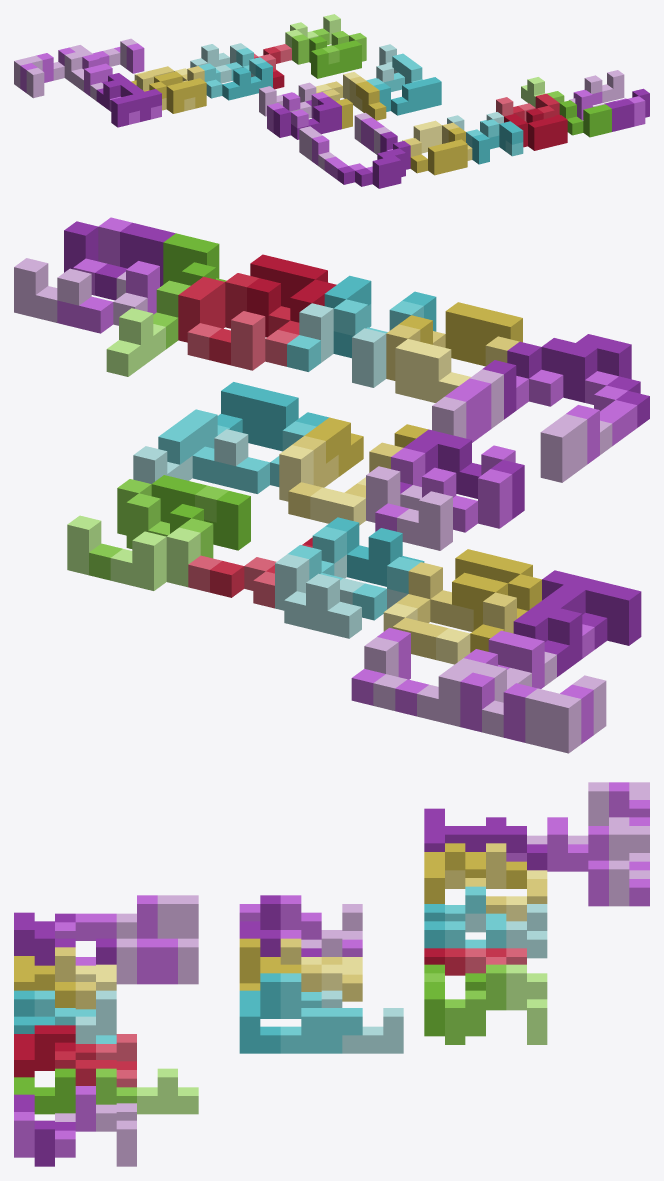
Rendered from Titre.fbx.
3 views of the same model, one above another, from view 1: azimuth 30°, elevation 25°; view 2: azimuth 150°, elevation 25°; view 3: azimuth 270°, elevation 25° (orthographic). The views are drawn at different scales.
Parts seen in each view (by area): view 1: imagetostl_mesh0; view 2: imagetostl_mesh0; view 3: imagetostl_mesh0.
Part boxes in pixels (box(x1,y1,x2,y2)): imagetostl_mesh0: box(14, 14, 649, 188); imagetostl_mesh0: box(14, 217, 649, 753); imagetostl_mesh0: box(14, 782, 649, 1166).
Size of the model in its own units: 6 by 0.3 by 4.65.
